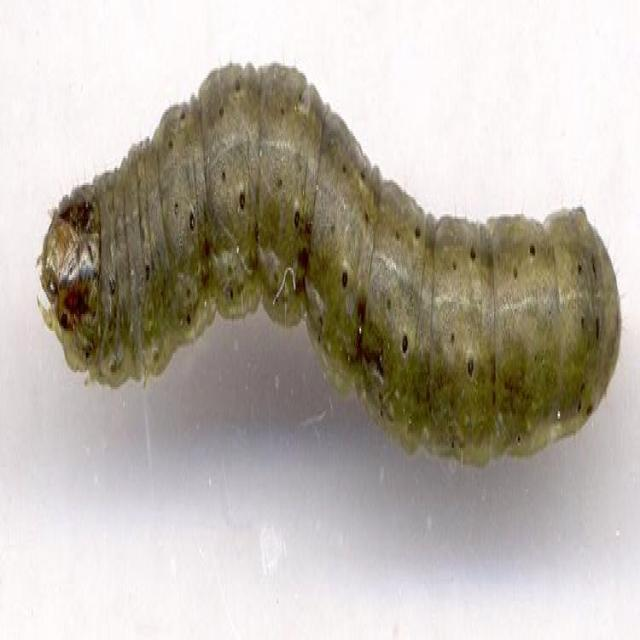black cutworm: (33, 29, 624, 503)
